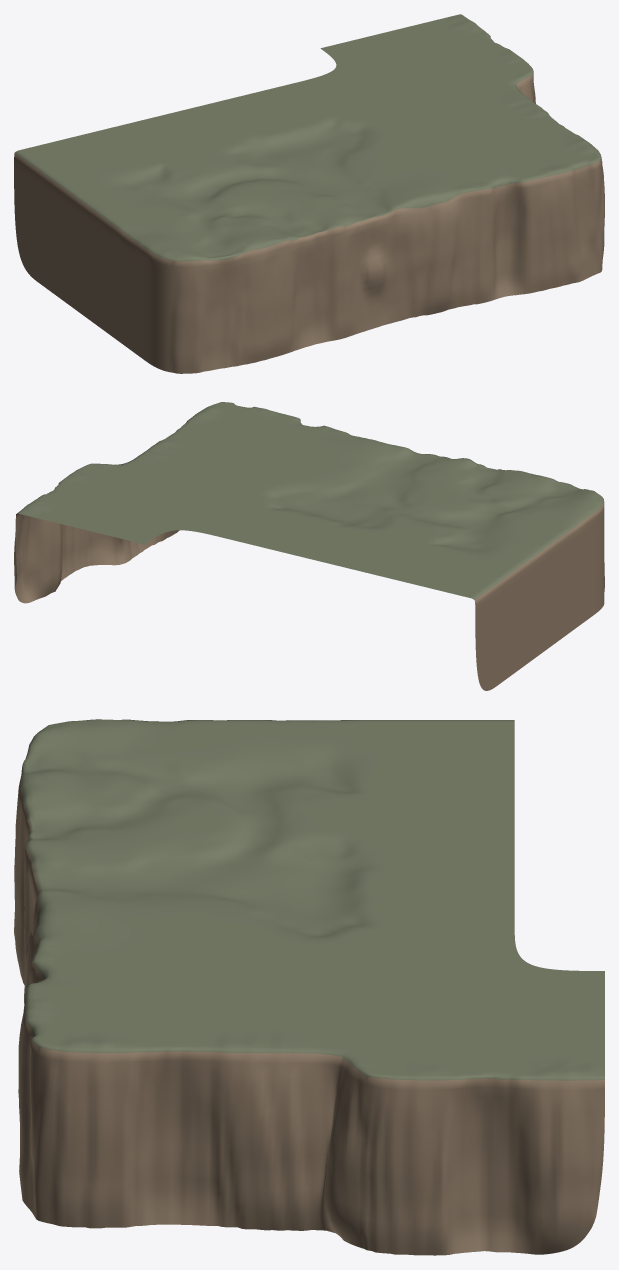
The model's file is ground.fbx.
3 renders of one model, top to bottom at view 1: azimuth 30°, elevation 25°; view 2: azimuth 150°, elevation 25°; view 3: azimuth 270°, elevation 25°, orthographic. The views are drawn at different scales.
Parts seen in each view (by area): view 1: Ground; view 2: Ground; view 3: Ground.
Boxes of the visible parts, <box> form: Ground: <box>14,14,604,373</box>; Ground: <box>14,402,604,690</box>; Ground: <box>14,719,604,1255</box>.
Size of the model in its own units: 67.67 by 15.41 by 45.85.
